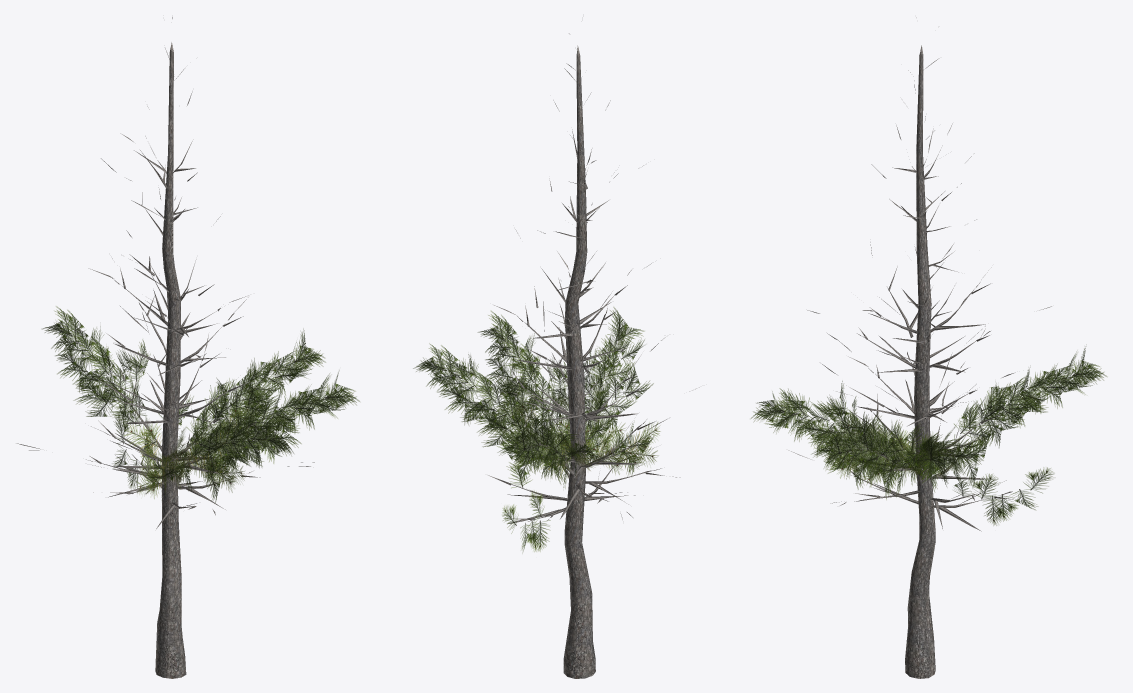
The model's file is pine-far.glb.
The picture shows the model from 3 angles, left to right: view 1: azimuth 30°, elevation 25°; view 2: azimuth 150°, elevation 25°; view 3: azimuth 270°, elevation 25°; orthographic projection.
Size of the model in its own units: 3.22 by 7.52 by 3.93.
3 materials, 3 textured.
